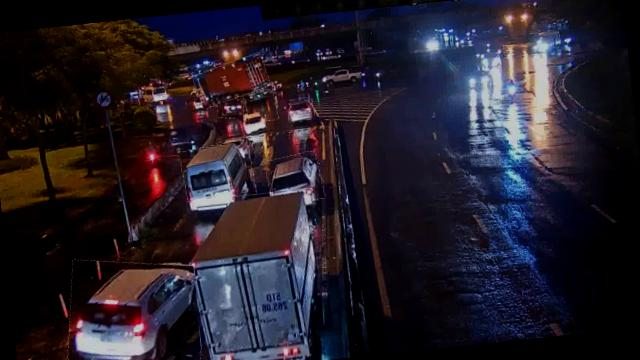Bus: (180, 141, 258, 216), (244, 90, 278, 124)
Car: (61, 251, 211, 360), (264, 152, 324, 207), (216, 94, 244, 120), (286, 97, 314, 122), (325, 66, 361, 84), (239, 112, 266, 136)
Truck: (186, 188, 329, 360), (193, 56, 271, 106)
